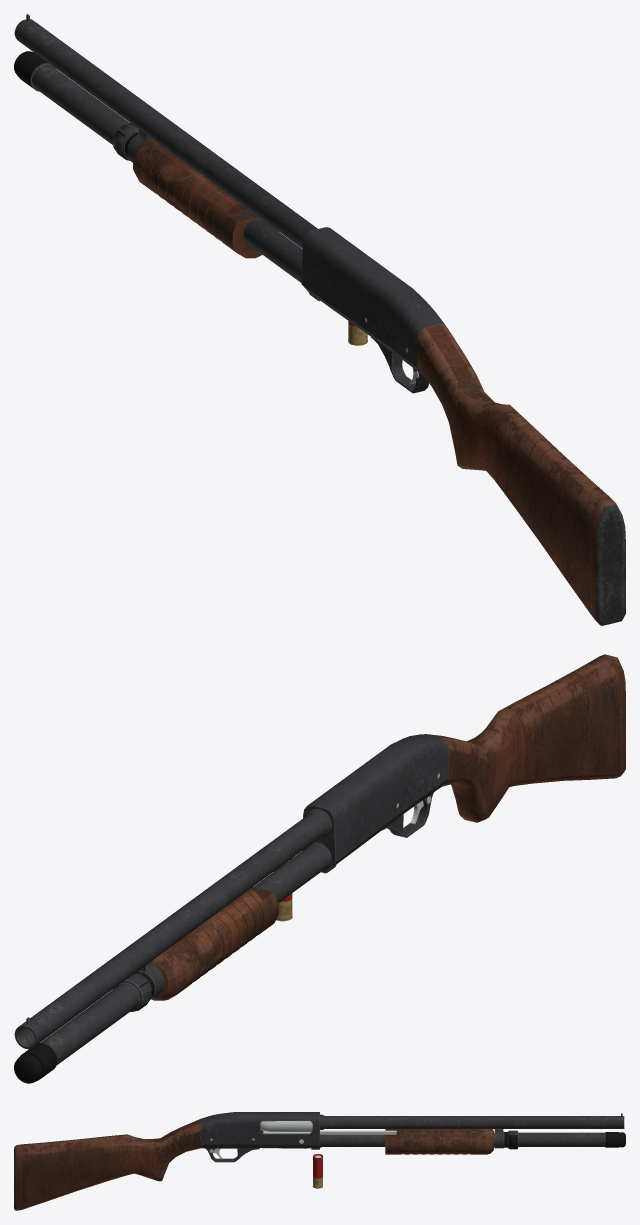
Rendered from shotgun_mp-133.glb.
3 renders of one model, top to bottom at view 1: azimuth 30°, elevation 25°; view 2: azimuth 150°, elevation 25°; view 3: azimuth 270°, elevation 25°, orthographic. The views are drawn at different scales.
Bounding box in the file's own units: 64.06 × 161 × 941.
Materials: 4 (4 with a texture image).
